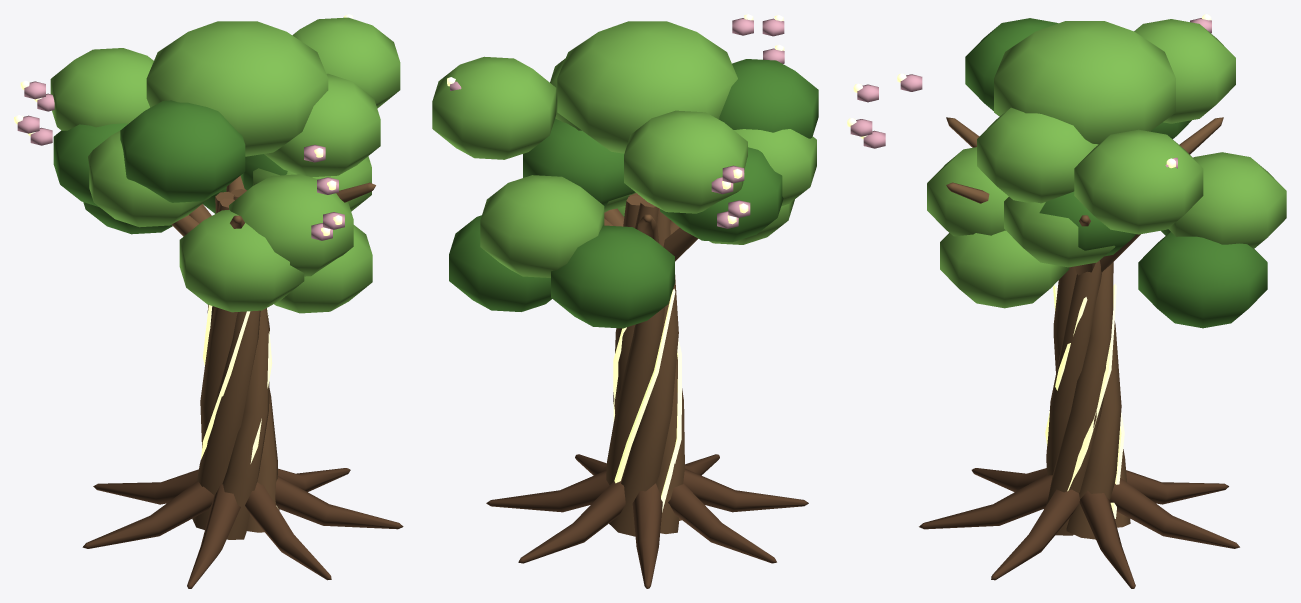
Rendered from world-tree.glb.
The picture shows the model from 3 angles, left to right: view 1: azimuth 30°, elevation 25°; view 2: azimuth 150°, elevation 25°; view 3: azimuth 270°, elevation 25°; orthographic projection.
Visible parts, largest first — view 1: tree; view 2: tree; view 3: tree.
Boxes of the visible parts, bbox=[...] form: tree: bbox=[14, 14, 403, 588]; tree: bbox=[432, 14, 818, 588]; tree: bbox=[847, 14, 1286, 588].
Size of the model in its own units: 2.46 by 3.36 by 2.72.
